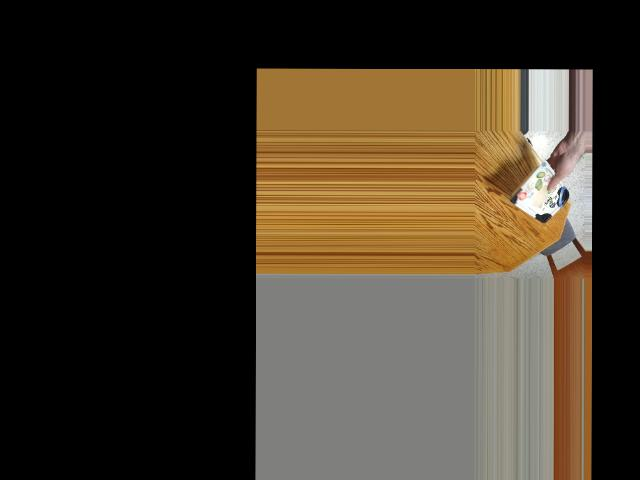cheese: (518, 165, 561, 221)
